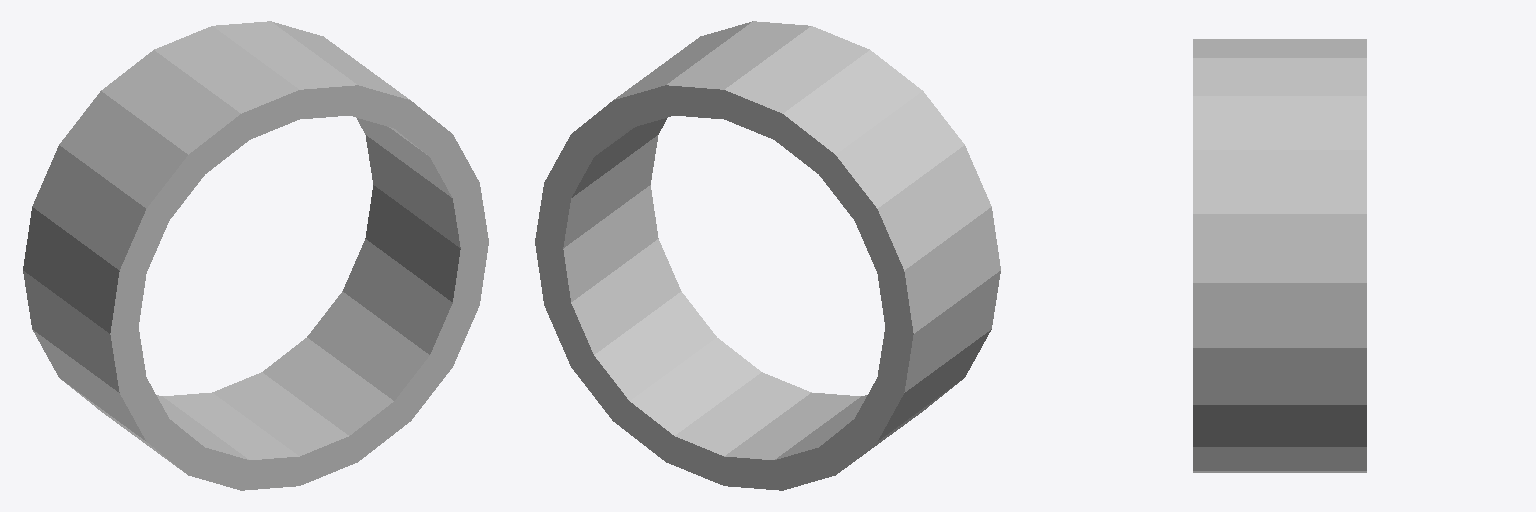
File: whitering.obj
3 views of the same model, side by side, from view 1: azimuth 30°, elevation 25°; view 2: azimuth 150°, elevation 25°; view 3: azimuth 270°, elevation 25° (orthographic).
Parts seen in each view (by area): view 1: obj_0; view 2: obj_0; view 3: obj_0.
Part boxes in pixels (x1,y1,x2,y2): obj_0: (23,21,488,490); obj_0: (535,21,1000,490); obj_0: (1193,39,1366,472).
Size of the model in its own units: 20 by 20 by 8.